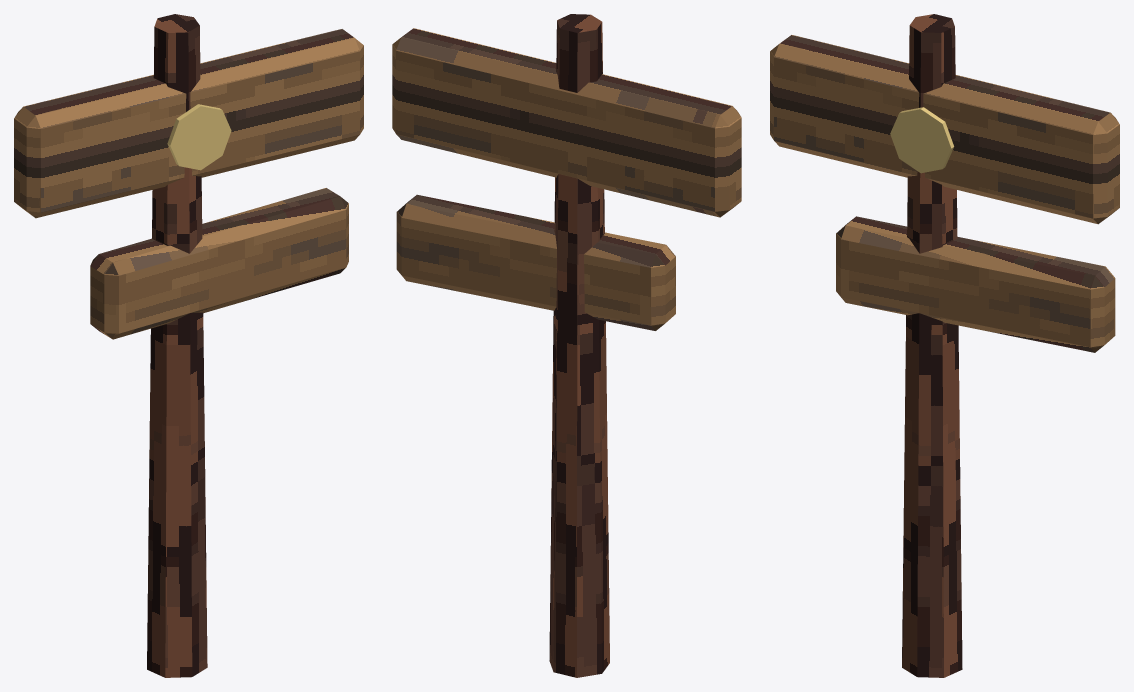
File: enfeite_placa.fbx
3 renders of one model, left to right at view 1: azimuth 30°, elevation 25°; view 2: azimuth 150°, elevation 25°; view 3: azimuth 330°, elevation 25°, orthographic.
Parts seen in each view (by area): view 1: pedreira_enfeite_placa; view 2: pedreira_enfeite_placa; view 3: pedreira_enfeite_placa.
Boxes of the visible parts, x1,y1,x2,y2 form: pedreira_enfeite_placa: (14,14,363,677); pedreira_enfeite_placa: (392,14,741,677); pedreira_enfeite_placa: (770,14,1119,677).
Bounding box in the file's own units: 55 × 100 × 9.9.
3 materials, 2 textured.
